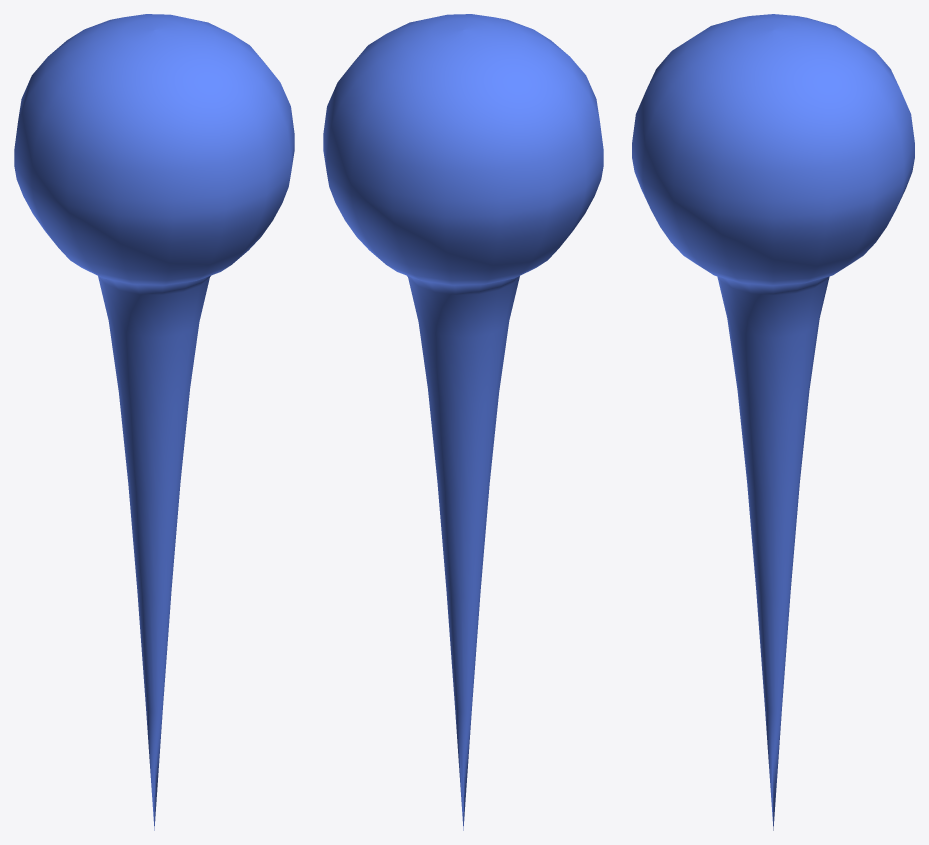
File: thumbtack_blue.obj
3 renders of one model, left to right at view 1: azimuth 30°, elevation 25°; view 2: azimuth 150°, elevation 25°; view 3: azimuth 270°, elevation 25°, orthographic.
Parts seen in each view (by area): view 1: Line004; view 2: Line004; view 3: Line004.
Part boxes in pixels (box(x1,y1,x2,y2)): Line004: box(14, 14, 294, 830); Line004: box(323, 14, 603, 830); Line004: box(632, 14, 914, 830).
Size of the model in its own units: 80 by 250 by 80.
